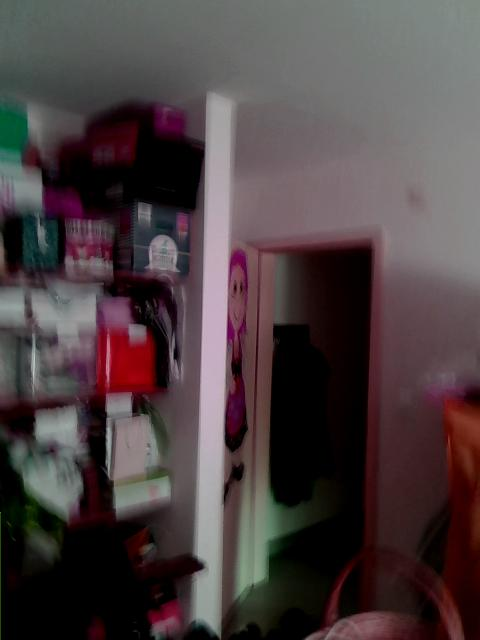open_door: (243, 222, 387, 590)
